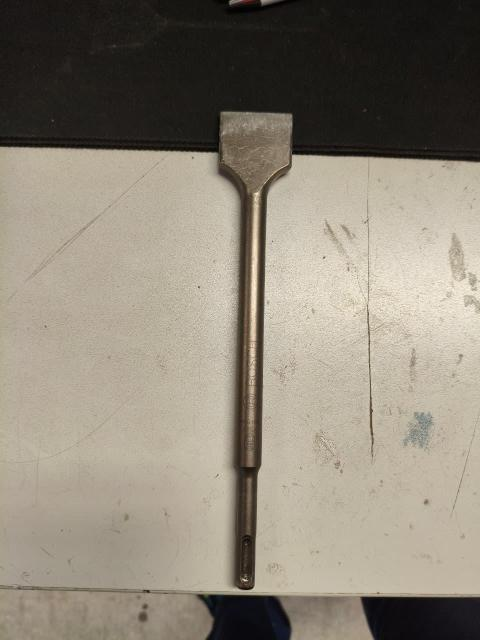Metal: (207, 107, 282, 588)
